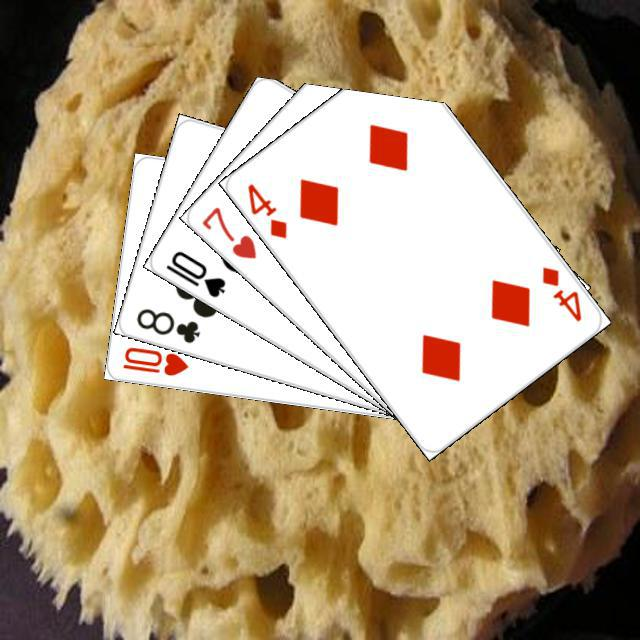10h: (117, 342, 190, 378)
10s: (160, 245, 228, 300)
4d: (536, 261, 584, 324), (242, 178, 289, 241)
7h: (196, 201, 258, 261)
8c: (131, 303, 202, 345)
